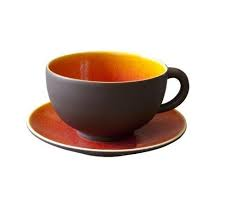cup: (37, 48, 194, 142)
